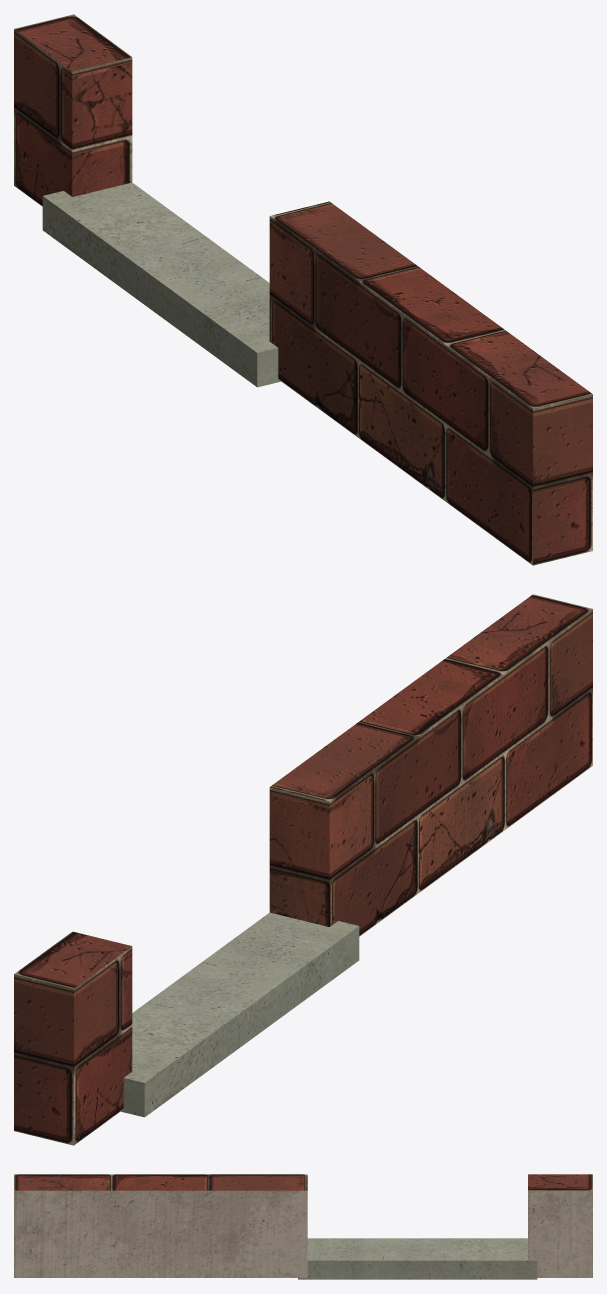
Rendered from roof04_edgeGap.fbx.
The picture shows the model from 3 angles, top to bottom: view 1: azimuth 30°, elevation 25°; view 2: azimuth 150°, elevation 25°; view 3: azimuth 270°, elevation 25°; orthographic projection. The views are drawn at different scales.
Visible parts, largest first — view 1: roof04_edgeGap; view 2: roof04_edgeGap; view 3: roof04_edgeGap.
Part boxes in pixels (box(x1,y1,x2,y2)): roof04_edgeGap: box(14, 14, 592, 565); roof04_edgeGap: box(14, 594, 592, 1145); roof04_edgeGap: box(14, 1174, 592, 1279).
Size of the model in its own units: 27 by 51 by 300.
